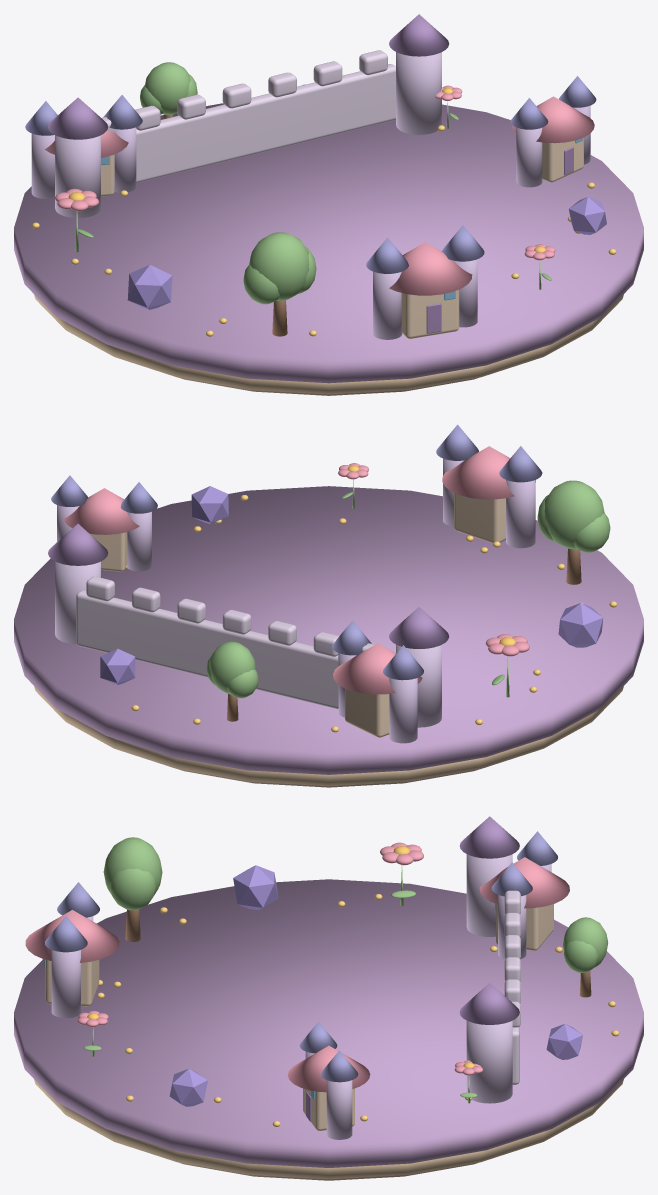
File: world.glb
3 views of the same model, one above another, from view 1: azimuth 30°, elevation 25°; view 2: azimuth 150°, elevation 25°; view 3: azimuth 270°, elevation 25° (orthographic).
Visible parts, largest first — view 1: Cone, Cube, castle.003, castle.001, Cone.001, castle.002, tree.002, Cone.005, Cone.003, tree.001, Cone.006, Cone.004 (+8 smaller); view 2: Cone, Cube, castle.003, castle.002, Cone.001, castle.001, tree.002, tree.001, Cone.005, Cone.003, Cone.006, Cone.004 (+10 smaller); view 3: Cone, castle.003, Cone.001, castle.001, castle.002, tree.002, Cone.005, Cone.003, tree.001, Cone.004, Cone.006, gem.002 (+5 smaller).
Part boxes in pixels (bbox=[...]): Cone: bbox=[14, 103, 643, 383]; Cube: bbox=[114, 64, 395, 186]; castle.003: bbox=[366, 225, 484, 339]; castle.001: bbox=[510, 76, 596, 187]; Cone.001: bbox=[34, 294, 623, 394]; castle.002: bbox=[25, 95, 142, 198]; tree.002: bbox=[243, 232, 316, 336]; Cone.005: bbox=[396, 52, 441, 134]; Cone.003: bbox=[55, 135, 100, 218]; tree.001: bbox=[140, 62, 197, 118]; Cone.006: bbox=[389, 14, 449, 56]; Cone.004: bbox=[48, 97, 107, 139]; Cone: bbox=[14, 486, 643, 774]; Cube: bbox=[76, 590, 338, 709]; castle.003: bbox=[436, 424, 542, 548]; castle.002: bbox=[332, 620, 423, 743]; Cone.001: bbox=[34, 686, 623, 786]; castle.001: bbox=[51, 475, 157, 571]; tree.002: bbox=[537, 480, 610, 584]; tree.001: bbox=[206, 641, 258, 721]; Cone.005: bbox=[55, 561, 100, 644]; Cone.003: bbox=[396, 644, 441, 727]; Cone.006: bbox=[48, 523, 108, 565]; Cone.004: bbox=[389, 607, 449, 648]; Cone: bbox=[14, 879, 643, 1167]; castle.003: bbox=[25, 882, 119, 1018]; Cone.001: bbox=[34, 1079, 623, 1179]; castle.001: bbox=[287, 1022, 370, 1139]; castle.002: bbox=[479, 831, 569, 959]; tree.002: bbox=[103, 837, 162, 941]; Cone.005: bbox=[466, 1020, 512, 1103]; Cone.003: bbox=[466, 854, 512, 936]; tree.001: bbox=[563, 917, 608, 997]; Cone.004: bbox=[459, 816, 519, 858]; Cone.006: bbox=[459, 983, 519, 1024]; gem.002: bbox=[233, 865, 278, 910].
Size of the model in its own units: 9.6 by 2.67 by 9.6.
